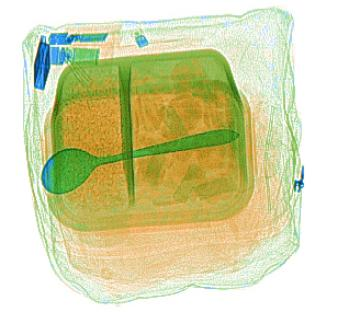USBFlashDisk: (41, 44, 98, 68), (48, 29, 105, 44)
